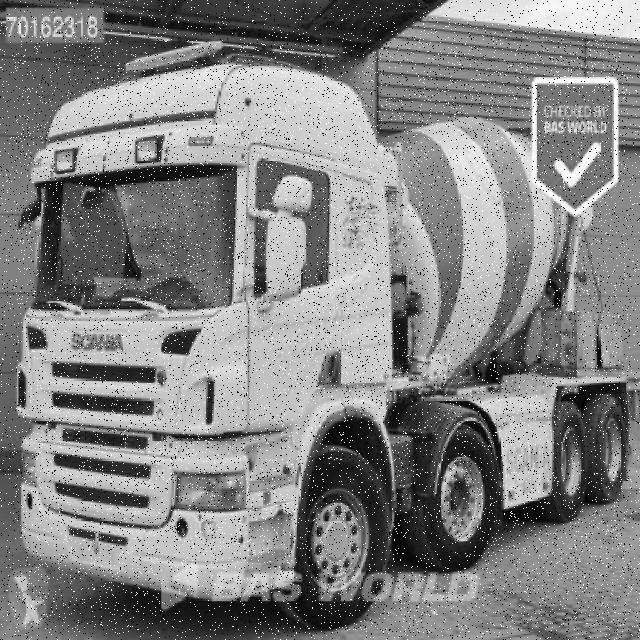Concrete Mixer: (15, 43, 631, 632)
